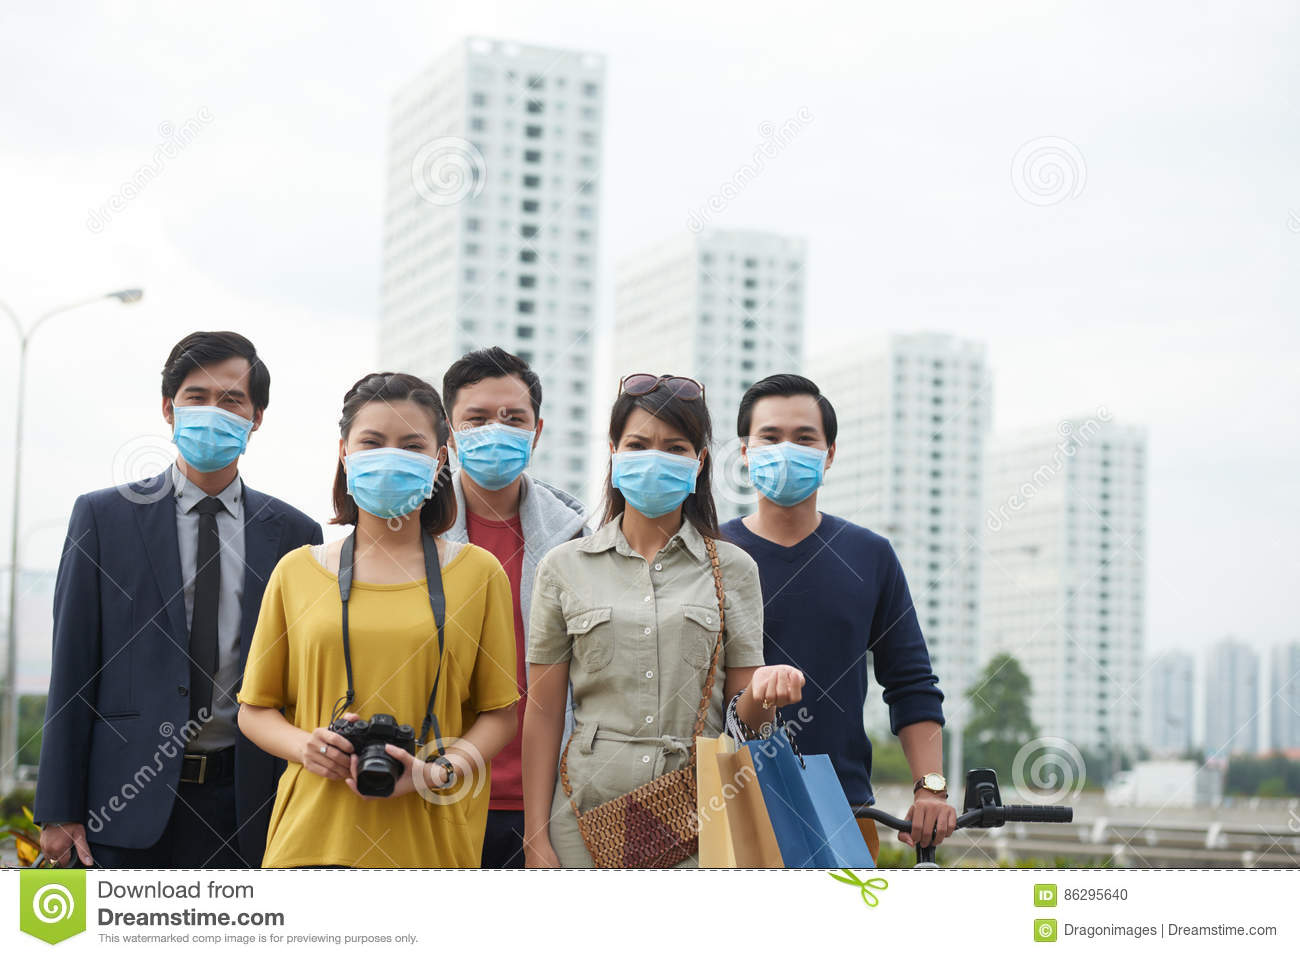mask: (345, 448, 436, 521), (610, 450, 698, 521), (454, 424, 535, 492), (172, 407, 252, 473), (749, 440, 824, 506)
